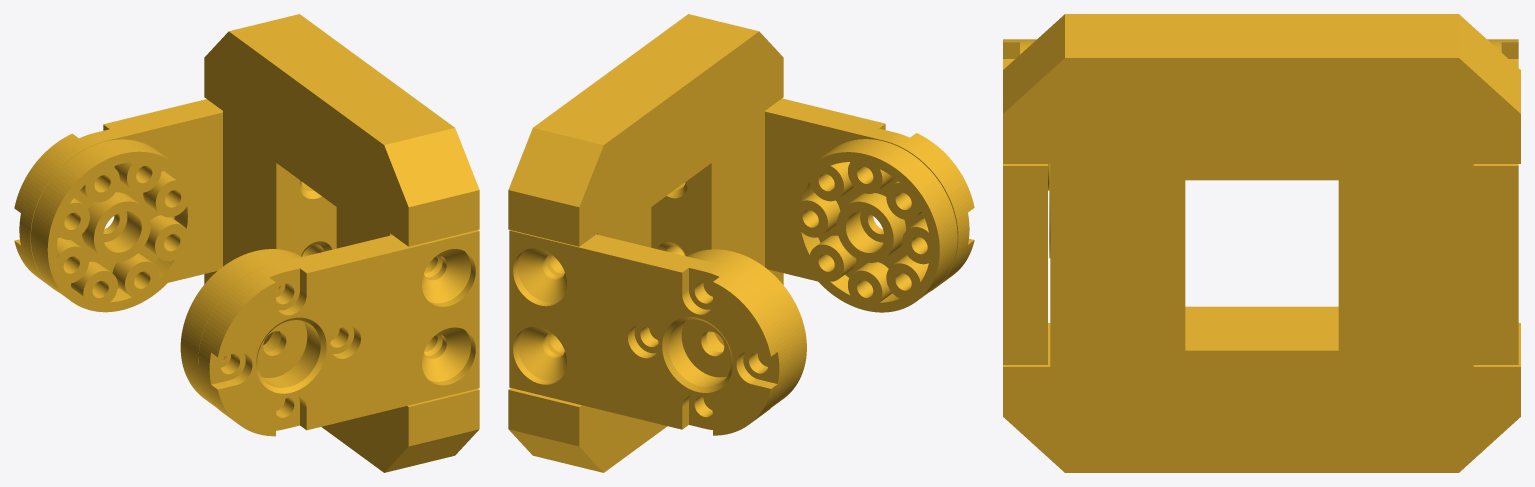
The model's file is lx16a_socket.dae.
3 views of the same model, side by side, from view 1: azimuth 30°, elevation 25°; view 2: azimuth 150°, elevation 25°; view 3: azimuth 270°, elevation 25° (orthographic). The views are drawn at different scales.
Visible parts, largest first — view 1: Socket; view 2: Socket; view 3: Socket.
Part boxes in pixels (x1,y1,x2,y2): Socket: (14, 14, 479, 472); Socket: (508, 14, 974, 472); Socket: (1003, 14, 1520, 472).
Bounding box in the file's own units: 34.22 × 46 × 40.7.
